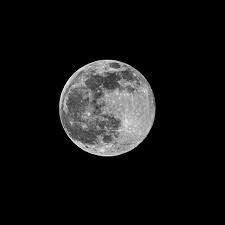moon: (49, 56, 163, 161)
